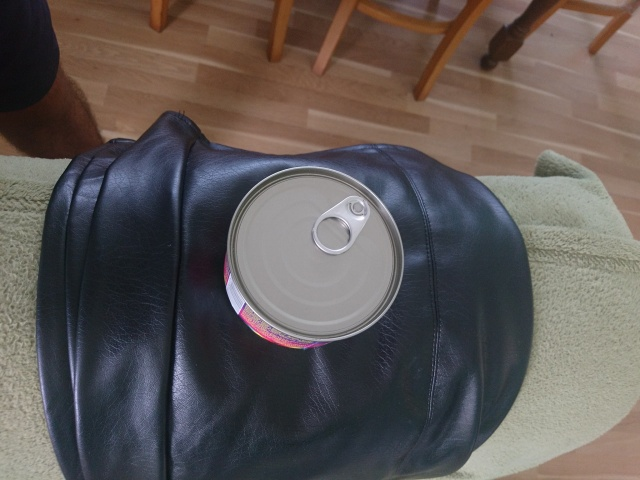Giana Tuna Salad Mexico 185g: (219, 162, 408, 353)
